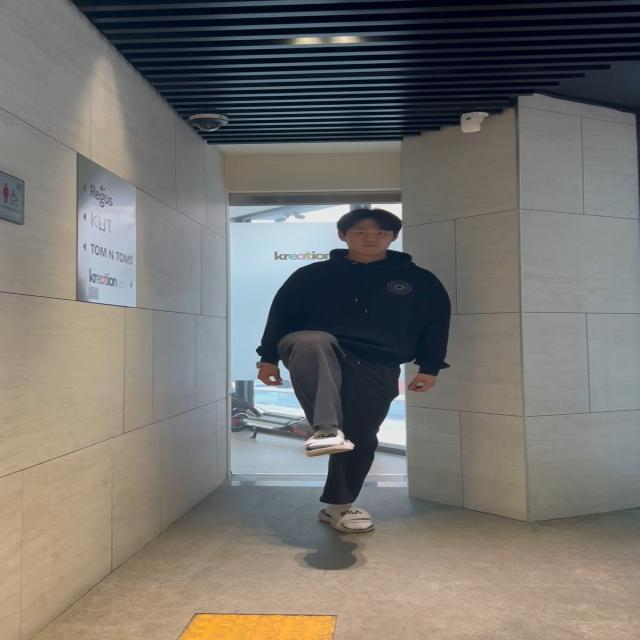knee: (254, 318, 367, 460)
